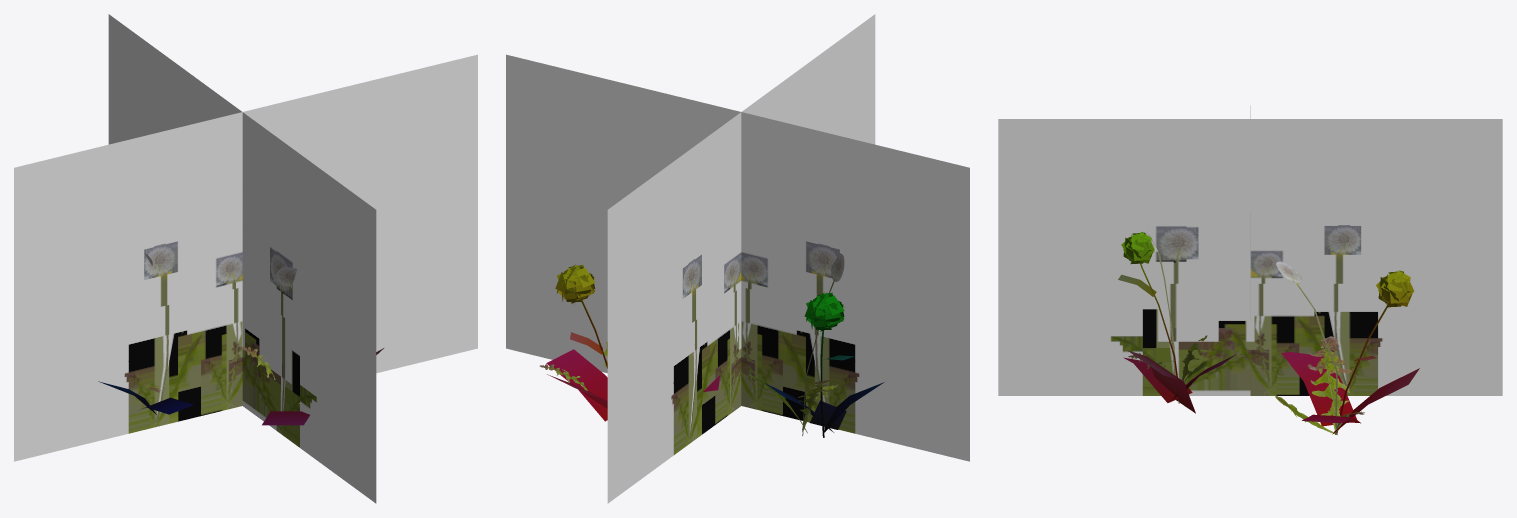
The model's file is MSH_Field_DandelionSeeds_C.FBX.
The picture shows the model from 3 angles, left to right: view 1: azimuth 30°, elevation 25°; view 2: azimuth 150°, elevation 25°; view 3: azimuth 270°, elevation 25°; orthographic projection. The views are drawn at different scales.
Visible parts, largest first — view 1: Field_DandelionSeeds_C_LOD2_GEO, Field_DandelionSeeds_C_LOD0_GEO, Field_DandelionSeeds_C_LOD1_GEO; view 2: Field_DandelionSeeds_C_LOD2_GEO, Field_DandelionSeeds_C_LOD0_GEO, Field_DandelionSeeds_C_LOD1_GEO; view 3: Field_DandelionSeeds_C_LOD2_GEO, Field_DandelionSeeds_C_LOD0_GEO, Field_DandelionSeeds_C_LOD1_GEO.
Part boxes in pixels (x1,y1,x2,y2): Field_DandelionSeeds_C_LOD2_GEO: (14,14,477,503); Field_DandelionSeeds_C_LOD0_GEO: (98,348,383,425); Field_DandelionSeeds_C_LOD1_GEO: (144,253,301,404); Field_DandelionSeeds_C_LOD2_GEO: (506,14,969,503); Field_DandelionSeeds_C_LOD0_GEO: (546,264,884,437); Field_DandelionSeeds_C_LOD1_GEO: (539,253,844,435); Field_DandelionSeeds_C_LOD2_GEO: (998,105,1502,395); Field_DandelionSeeds_C_LOD0_GEO: (1118,232,1419,434); Field_DandelionSeeds_C_LOD1_GEO: (1128,229,1364,435).
Size of the model in its own units: 125 by 77.2 by 125.
